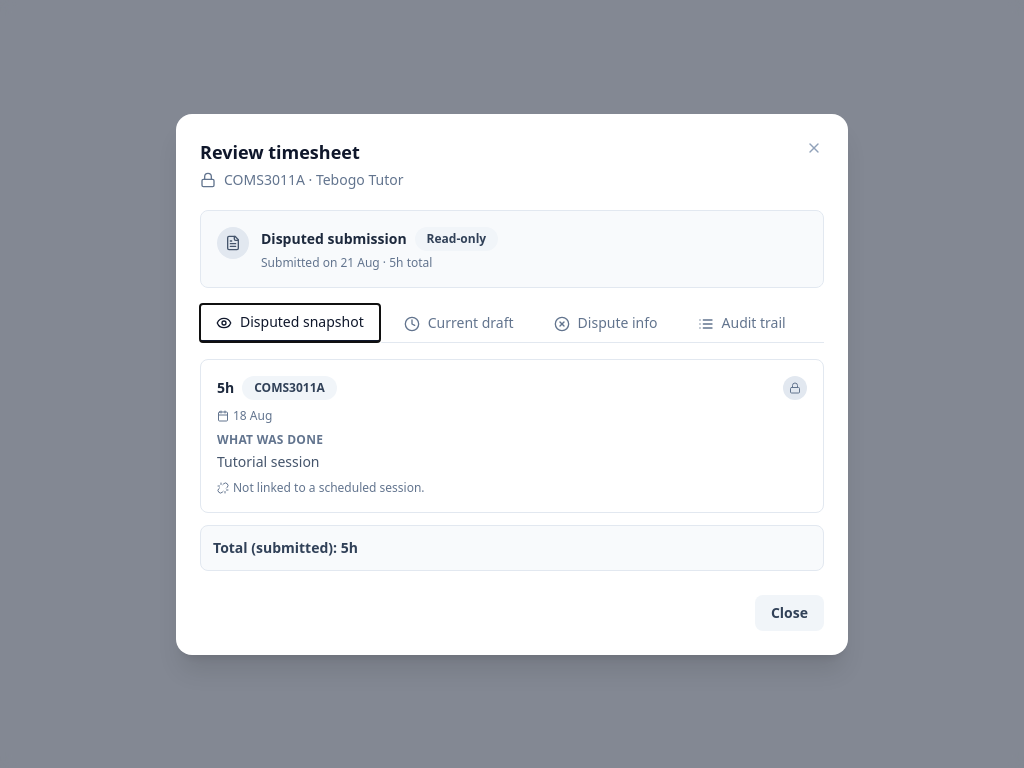
Test case: ReviewTimesheetModal › compares the disputed snapshot with the current draft
Expected: the button "Disputed snapshot" is shown, top-left (200, 304), bottom-right (380, 342)
Expected: the button "Dispute info" is shown, top-left (538, 304), bottom-right (674, 342)
Click the button "Current draft": x=459, y=322 top-left (388, 304), bottom-right (530, 342)
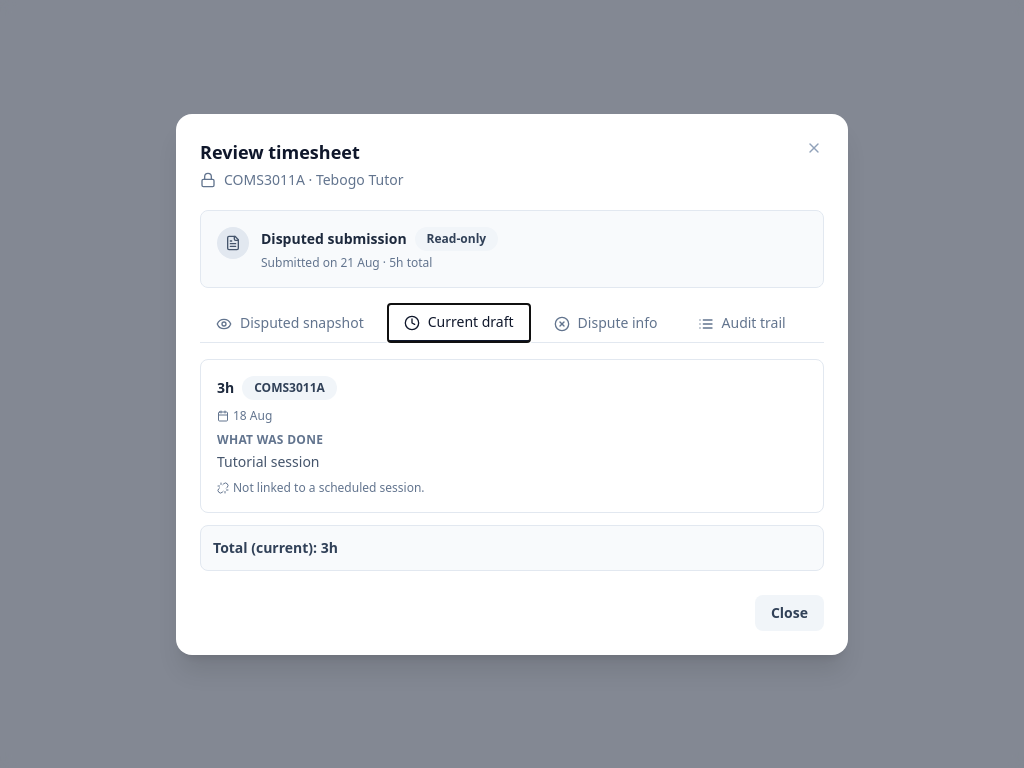
Expected: the text "Not linked to a scheduled session." is shown, top-left (217, 478), bottom-right (424, 496)
Now the text "Total (current): 3h" is shown, box top-left (213, 538), bottom-right (338, 556)
Click the button "Dispute info": x=606, y=322 top-left (538, 304), bottom-right (674, 342)
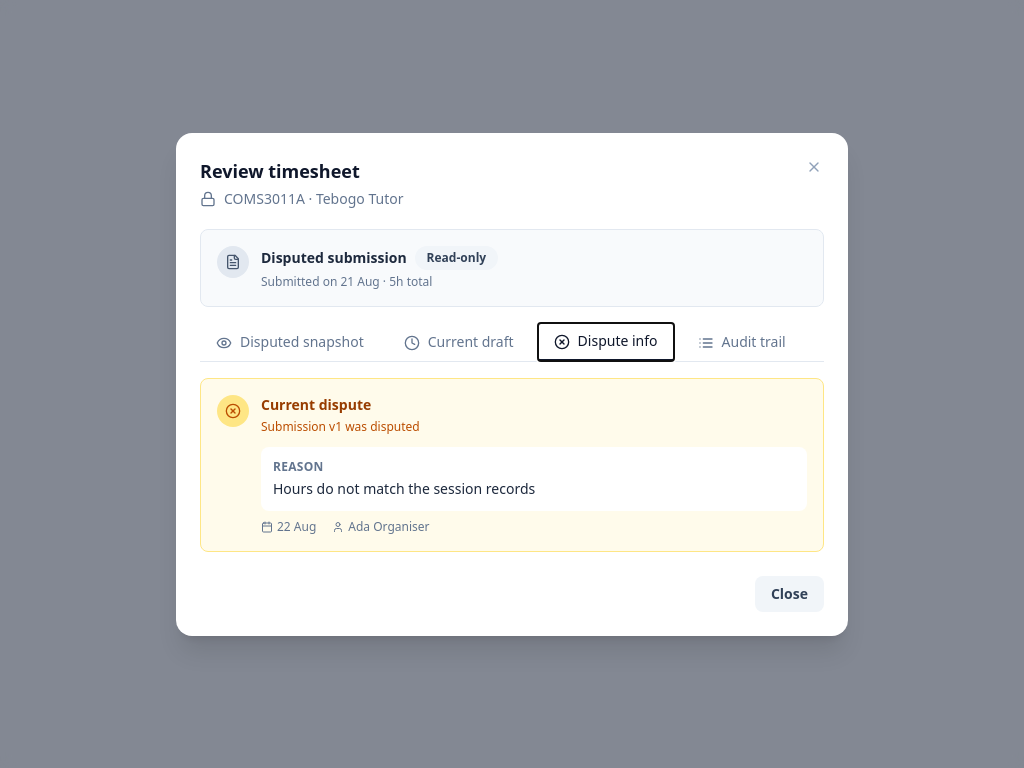
Now the text "Current dispute" is shown, box top-left (261, 394), bottom-right (371, 414)
Now the text "Hours do not match the session records" is shown, box top-left (273, 478), bottom-right (535, 498)
